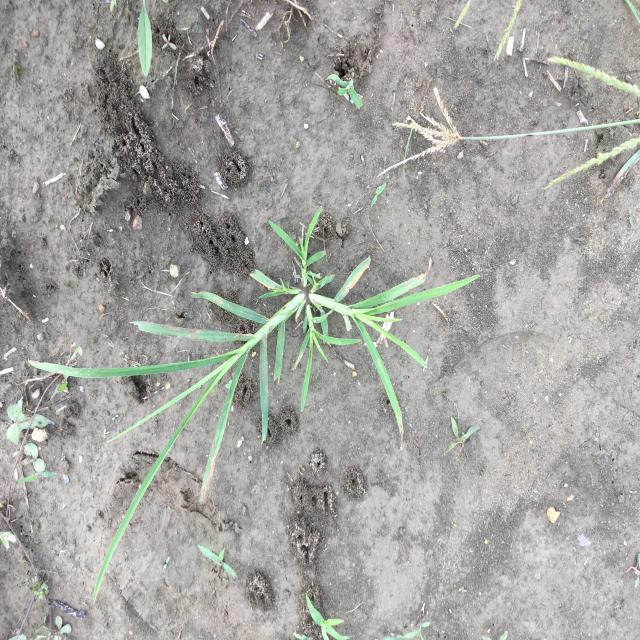Goosegrass: (26, 204, 482, 608)
